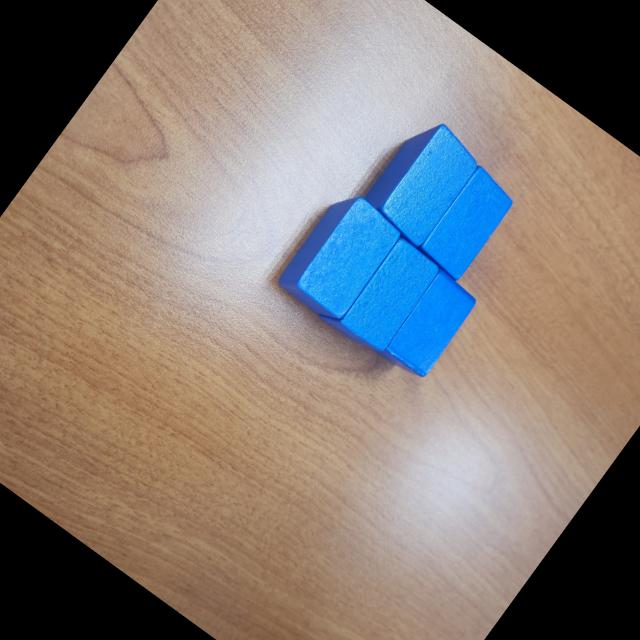blue: (272, 186, 408, 330), (357, 111, 489, 251), (314, 223, 444, 362), (367, 260, 482, 386), (414, 163, 522, 282)
